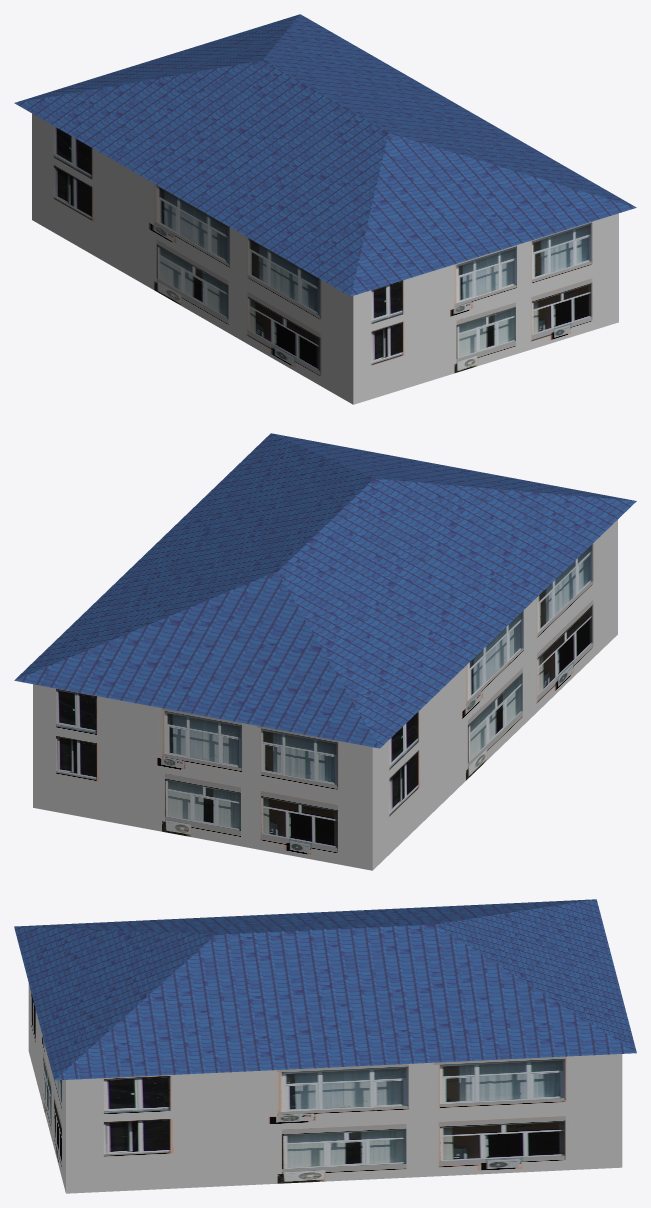
3 renders of one model, top to bottom at view 1: azimuth 30°, elevation 25°; view 2: azimuth 150°, elevation 25°; view 3: azimuth 270°, elevation 25°, orthographic. The views are drawn at different scales.
Visible parts, largest first — view 1: CityEngineMaterial_10_m, CityEngineMaterial_9_m; view 2: CityEngineMaterial_10_m, CityEngineMaterial_9_m; view 3: CityEngineMaterial_10_m, CityEngineMaterial_9_m.
Boxes of the visible parts, x1,y1,x2,y2 form: CityEngineMaterial_10_m: (14, 14, 636, 296); CityEngineMaterial_9_m: (32, 113, 618, 404); CityEngineMaterial_10_m: (14, 433, 636, 748); CityEngineMaterial_9_m: (33, 520, 617, 870); CityEngineMaterial_10_m: (14, 899, 636, 1080); CityEngineMaterial_9_m: (28, 983, 622, 1193).
Bounding box in the file's own units: 30.43 × 14.09 × 44.22.
